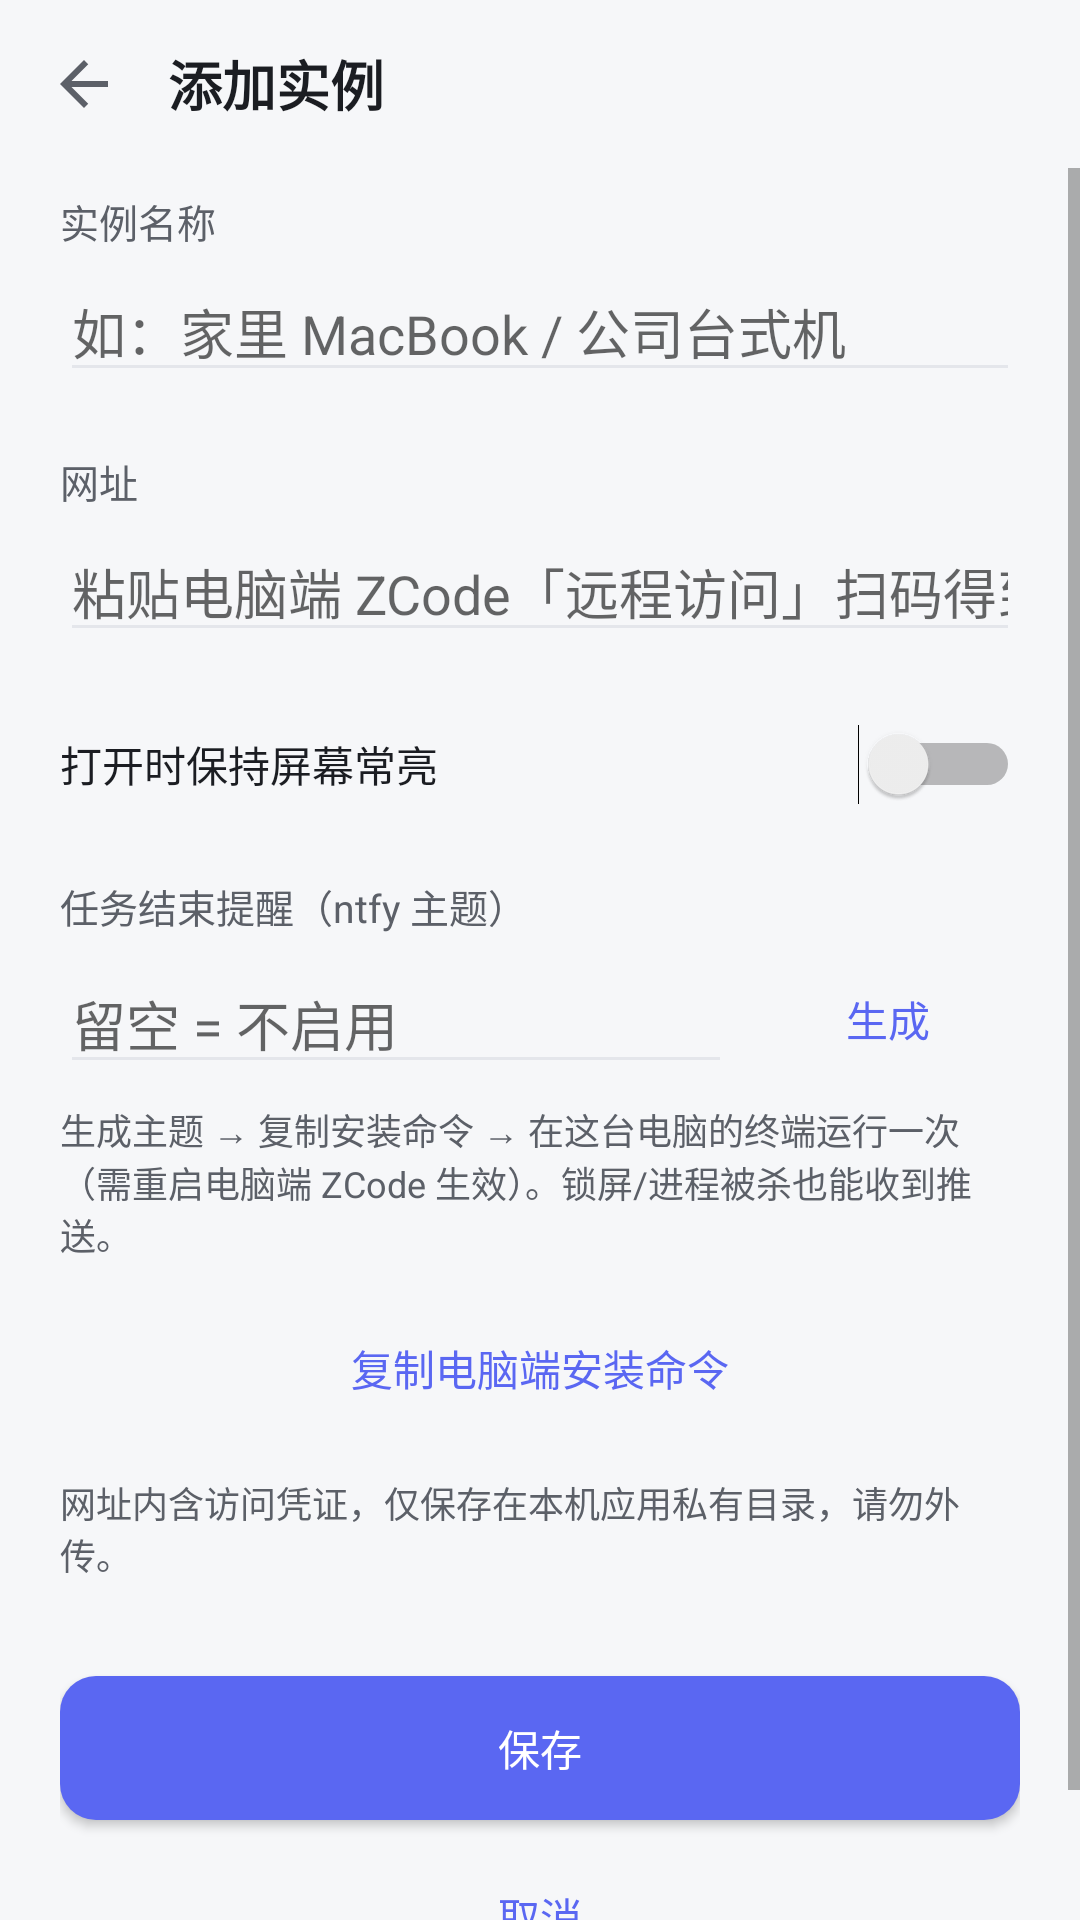

Icon click points for this 1080 × 1920 phone screenshot, format [x,y]:
返回: [84,84]
